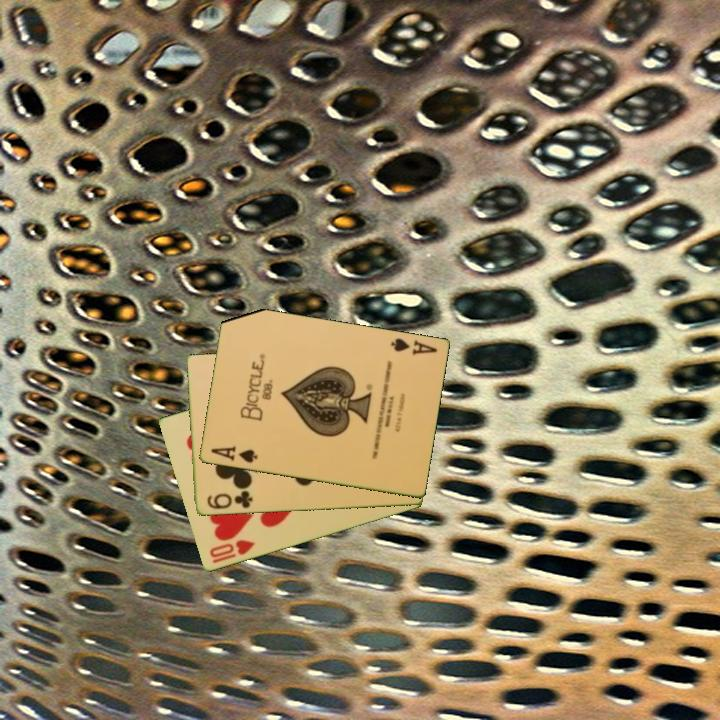10h: (206, 536, 257, 566)
6c: (203, 487, 255, 512)
As: (207, 443, 260, 466), (387, 335, 440, 358)
